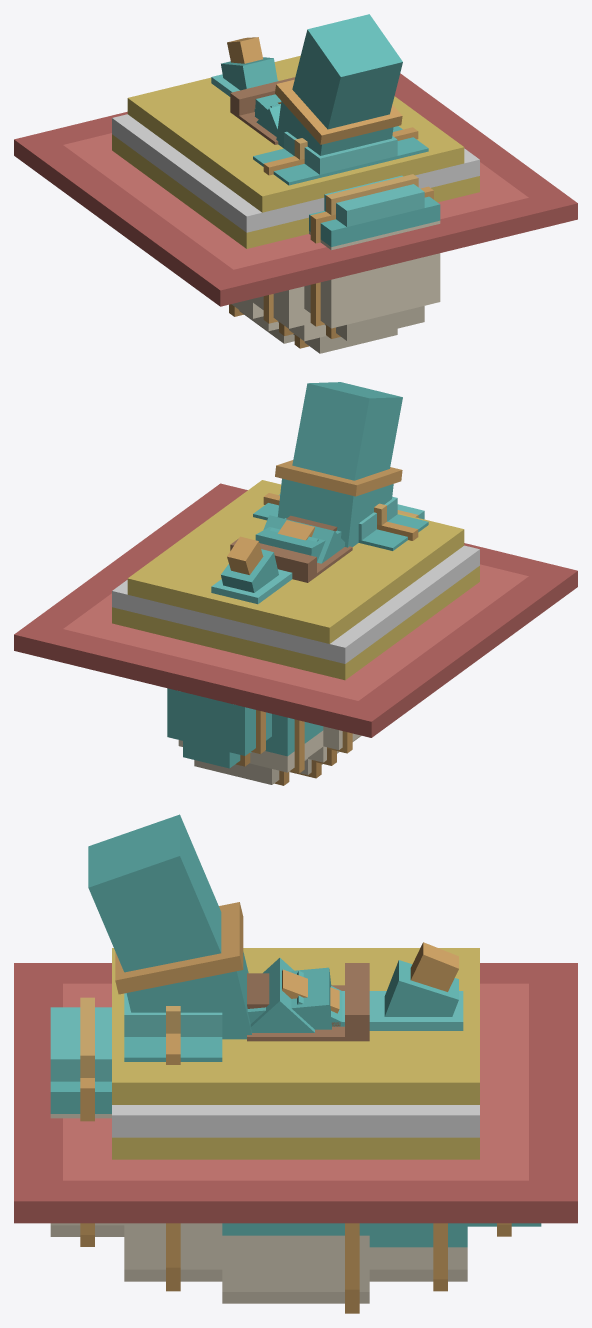
The model's file is Trainer3.glb.
3 renders of one model, top to bottom at view 1: azimuth 30°, elevation 25°; view 2: azimuth 150°, elevation 25°; view 3: azimuth 270°, elevation 25°, orthographic. The views are drawn at different scales.
Visible parts, largest first — view 1: Stand, Body, Head, T1; view 2: Stand, Body, Head, T2, T1; view 3: Stand, Body, Head, T1, T2, Fin.
Boxes of the visible parts, x1,y1,x2,y2 form: Stand: [14, 55, 577, 306]; Body: [229, 14, 440, 353]; Head: [211, 37, 278, 109]; T1: [256, 105, 280, 136]; Stand: [14, 480, 577, 737]; Body: [167, 382, 428, 785]; Head: [211, 536, 292, 604]; T2: [255, 518, 341, 561]; T1: [263, 515, 344, 563]; Stand: [14, 948, 577, 1223]; Body: [50, 814, 541, 1313]; Head: [331, 942, 463, 1030]; T1: [250, 958, 314, 1032]; T2: [247, 967, 331, 1029]; Fin: [282, 969, 339, 1013].
Size of the model in its own units: 9.2 by 8.09 by 9.2.
